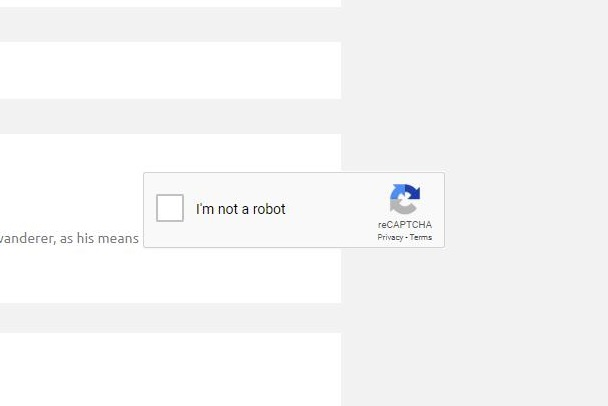captcha: (156, 193, 289, 222)
